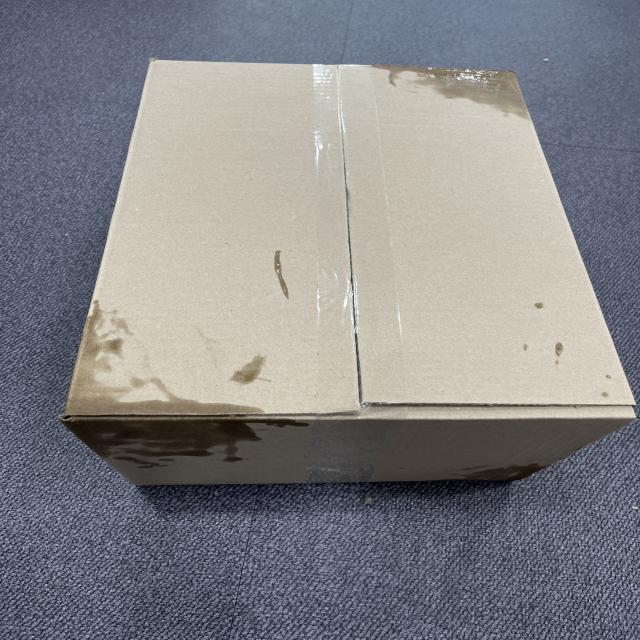wet: (71, 308, 259, 478), (390, 60, 526, 129)
